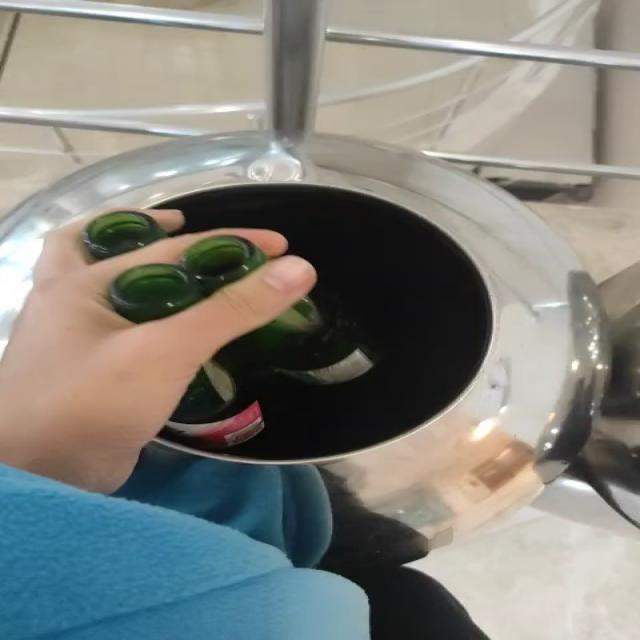glass: (165, 299, 375, 449), (108, 236, 267, 323), (87, 212, 164, 258)
